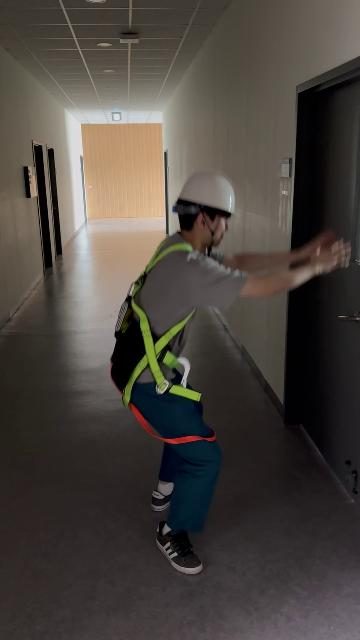helmet_worn: (174, 169, 238, 215)
shoe_not_worn: (156, 520, 202, 573), (151, 481, 174, 513)
vest_worn: (110, 241, 210, 435)
